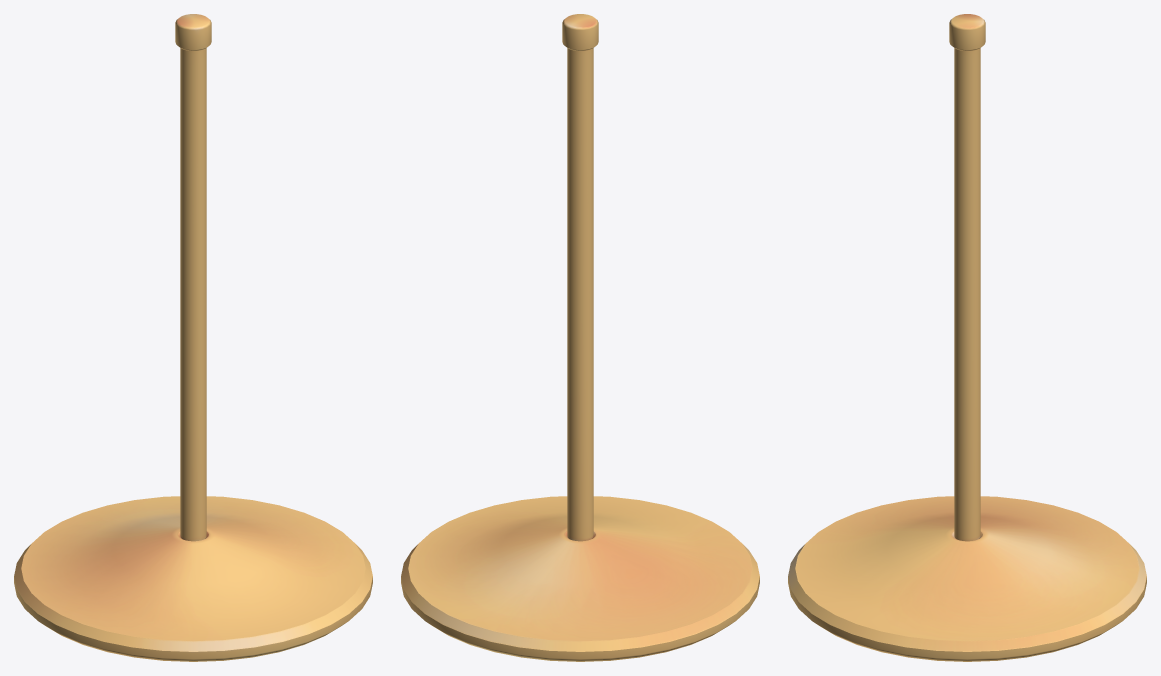
The model's file is CommunityRoomB_InformationBoardB04.fbx.
3 views of the same model, side by side, from view 1: azimuth 30°, elevation 25°; view 2: azimuth 150°, elevation 25°; view 3: azimuth 270°, elevation 25° (orthographic).
Parts seen in each view (by area): view 1: CommunityRoomB_InformationBoardB04; view 2: CommunityRoomB_InformationBoardB04; view 3: CommunityRoomB_InformationBoardB04.
Boxes of the visible parts, box(x1,y1,x2,y2) form: CommunityRoomB_InformationBoardB04: box(14, 14, 372, 661); CommunityRoomB_InformationBoardB04: box(401, 14, 759, 661); CommunityRoomB_InformationBoardB04: box(788, 14, 1146, 661).
Size of the model in its own units: 33.11 by 57.91 by 33.11.
